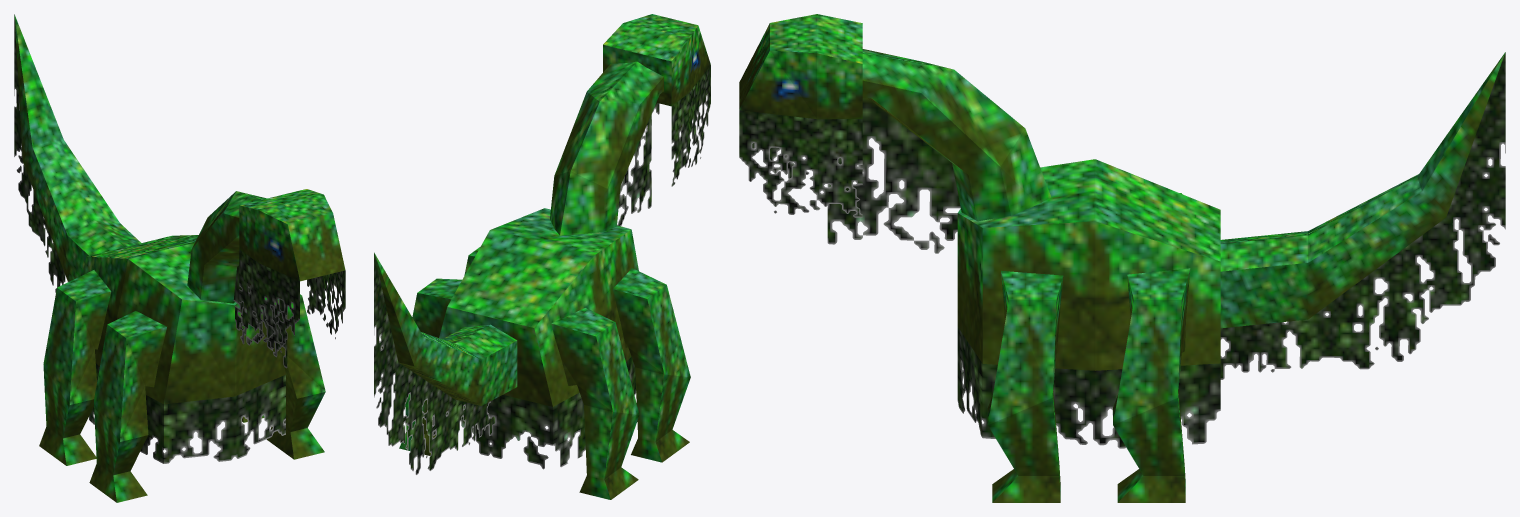
The model's file is arisaur.obj.
3 renders of one model, left to right at view 1: azimuth 30°, elevation 25°; view 2: azimuth 150°, elevation 25°; view 3: azimuth 270°, elevation 25°, orthographic. The views are drawn at different scales.
Visible parts, largest first — view 1: Body, Tail, Head, LegRightFront, LegRightBack, Neck, LegLeftFront; view 2: Body, Tail, Neck, LegRightBack, LegRightFront, Head, LegLeftBack; view 3: Body, Tail, Neck, Head, LegLeftBack, LegLeftFront.
Part boxes in pixels (x1,y1,x2,y2): Body: (82, 235, 285, 463); Tail: (14, 14, 141, 292); Head: (239, 189, 345, 352); LegRightFront: (89, 311, 166, 502); LegRightBack: (39, 270, 111, 465); Neck: (187, 191, 287, 368); LegLeftFront: (267, 294, 325, 459); Body: (432, 208, 638, 469); Tail: (374, 252, 517, 474); Neck: (550, 61, 663, 235); LegRightBack: (551, 308, 639, 499); LegRightFront: (613, 268, 690, 462); Head: (603, 14, 710, 186); LegLeftBack: (399, 278, 461, 455); Body: (957, 159, 1220, 448); Tail: (1220, 52, 1505, 379); Neck: (827, 49, 1051, 253); Head: (739, 14, 862, 217); LegLeftBack: (1113, 268, 1190, 502); LegLeftFront: (987, 270, 1063, 502).
Size of the model in its own units: 4.77 by 7.16 by 12.25.
